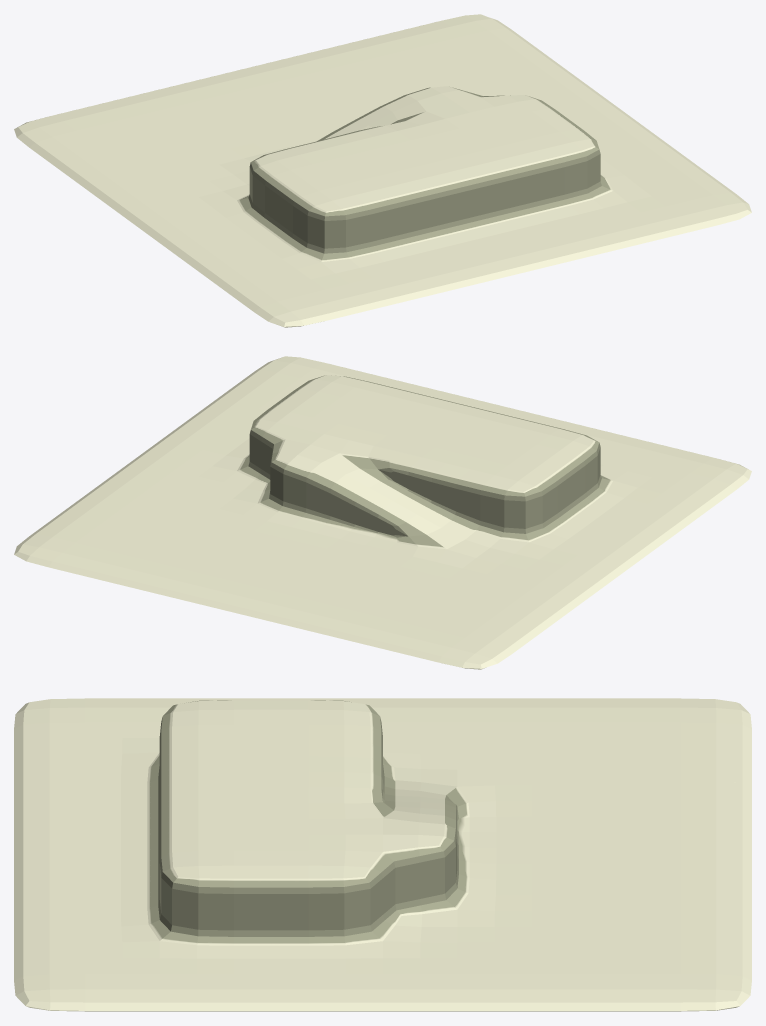
Rendered from badnorth_map_lvl1_colored.fbx.
3 views of the same model, one above another, from view 1: azimuth 30°, elevation 25°; view 2: azimuth 150°, elevation 25°; view 3: azimuth 270°, elevation 25° (orthographic). The views are drawn at different scales.
Parts seen in each view (by area): view 1: Floor; view 2: Floor; view 3: Floor.
Part boxes in pixels (x1,y1,x2,y2): Floor: (14,14,751,327); Floor: (14,356,751,669); Floor: (14,698,751,1011).
Size of the model in its own units: 9917 by 1100 by 9917.
1 material, 1 textured.
